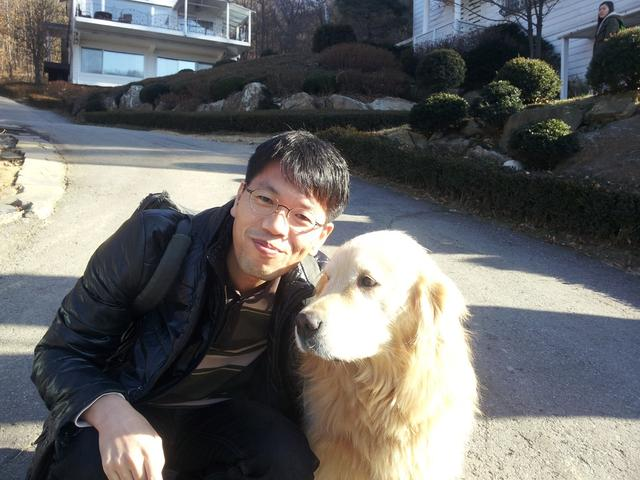dog: (301, 224, 482, 480)
